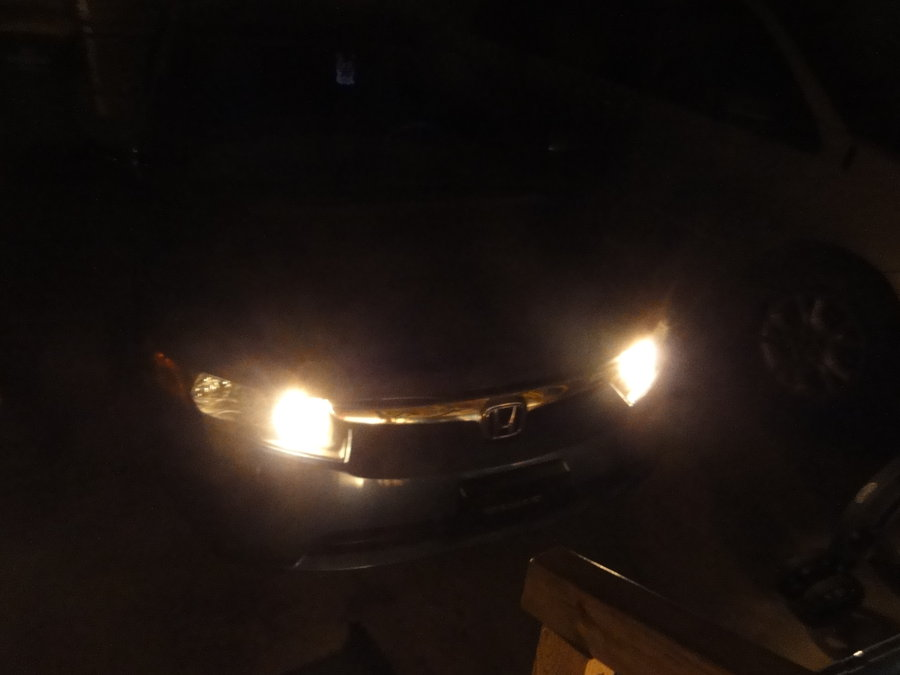car: (33, 9, 735, 577)
